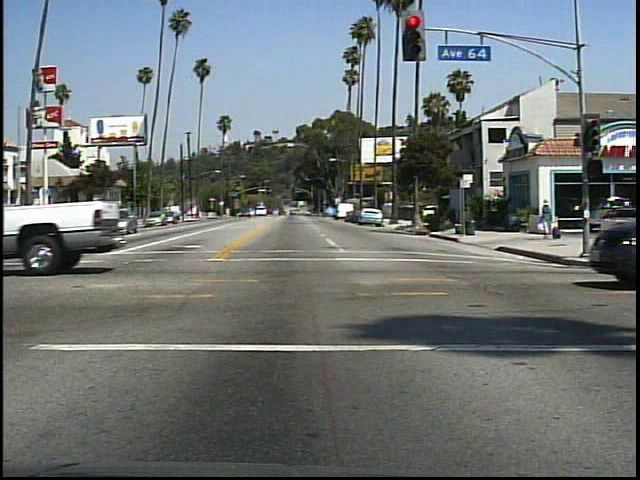person: (536, 194, 563, 240)
